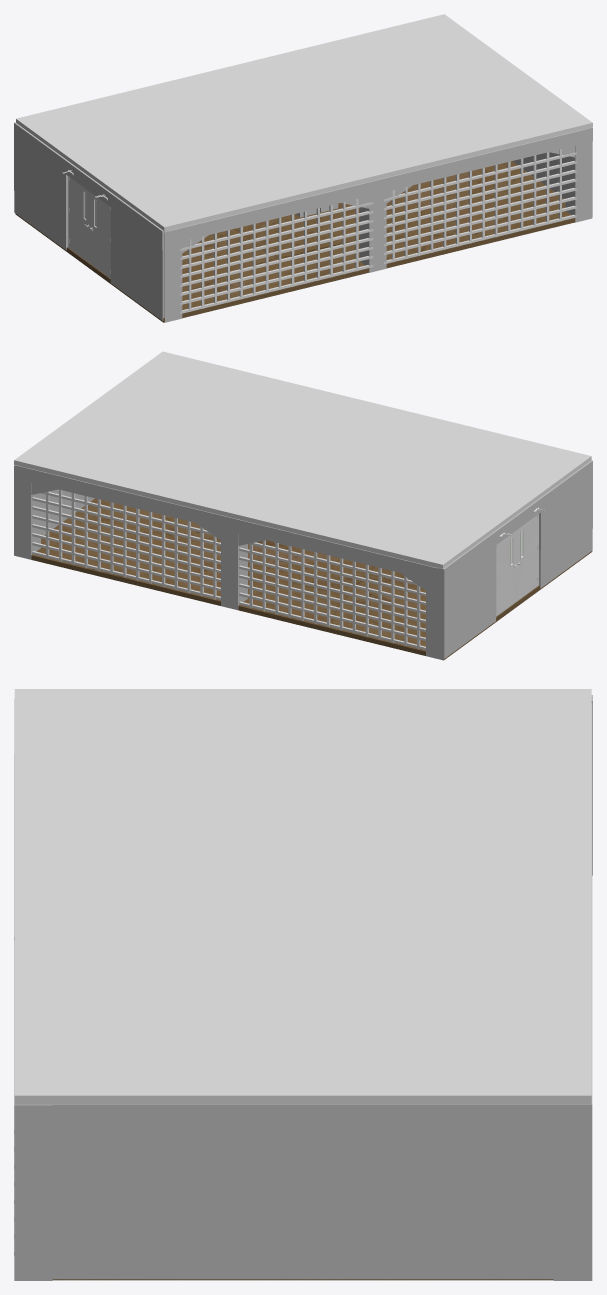
File: Zimmer_ohne_Loch.fbx
3 views of the same model, one above another, from view 1: azimuth 30°, elevation 25°; view 2: azimuth 150°, elevation 25°; view 3: azimuth 270°, elevation 25° (orthographic). The views are drawn at different scales.
Visible parts, largest first — view 1: Dach, Boden, Wand_Vorne, Fensster_4, Fenster3, Cube.008, Cube.002, Cube.010, Cube.011, door_A_012.001, door_B_012.001, Wand_hinten; view 2: Dach, Boden, Wand_Vorne, Fenster, Fenster2, Cube.021, Cube.018, Cube.020, door_B_012.001, door_A_012.001, Cube.019, Wand_hinten; view 3: Dach, Wand_hinten, Cube.020, Cube.008, Boden, Cube.021.
Boxes of the visible parts, x1,y1,x2,y2 form: Dach: (16, 14, 592, 231); Boden: (15, 161, 575, 322); Wand_Vorne: (14, 122, 167, 320); Fensster_4: (384, 149, 576, 264); Fenster3: (180, 198, 373, 313); Cube.008: (164, 127, 592, 245); Cube.002: (341, 179, 412, 272); Cube.010: (549, 141, 592, 222); Cube.011: (164, 229, 208, 322); door_A_012.001: (69, 177, 90, 263); door_B_012.001: (90, 192, 110, 278); Wand_hinten: (512, 127, 592, 216); Dach: (14, 351, 591, 568); Boden: (31, 498, 592, 660); Wand_Vorne: (437, 460, 592, 658); Fenster: (32, 489, 220, 599); Fenster2: (239, 540, 425, 649); Cube.021: (14, 465, 437, 578); Cube.018: (196, 516, 266, 610); Cube.020: (14, 466, 57, 559); door_B_012.001: (517, 515, 538, 601); door_A_012.001: (496, 530, 516, 616); Cube.019: (400, 566, 443, 660); Wand_hinten: (41, 489, 94, 535); Dach: (14, 689, 591, 1104); Wand_hinten: (14, 1104, 553, 1279); Cube.020: (553, 1106, 592, 1280); Cube.008: (14, 699, 52, 1131); Boden: (52, 1279, 553, 1280); Cube.021: (553, 703, 592, 1106).
Size of the model in its own units: 17592 by 3701 by 10318.
